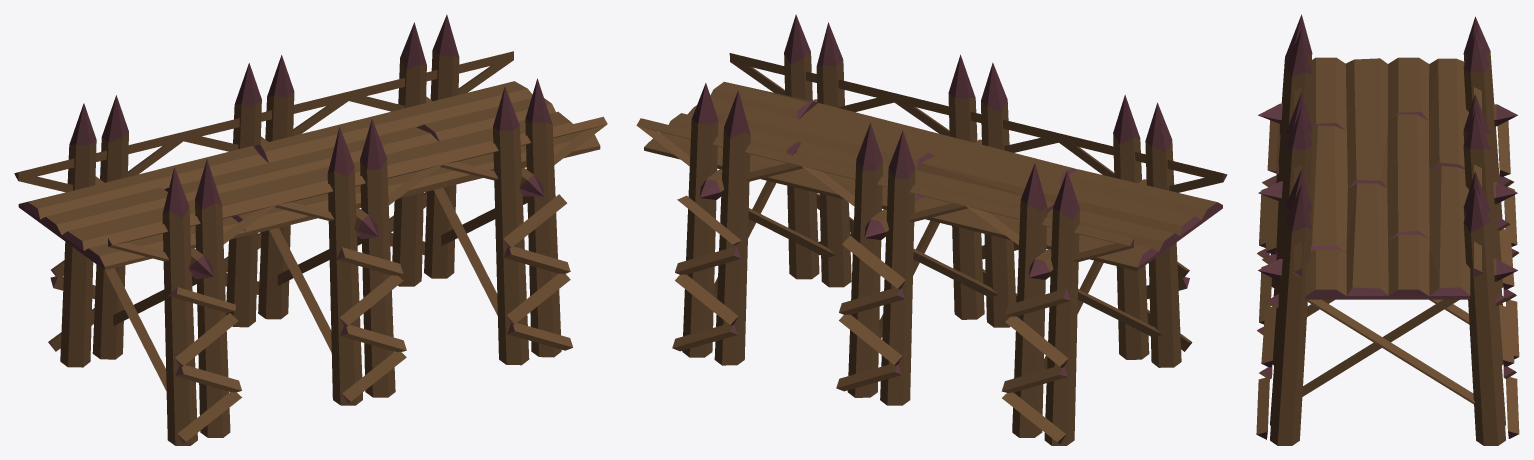
File: SM_Bridge_Tribal_Tier2.fbx
The picture shows the model from 3 angles, left to right: view 1: azimuth 30°, elevation 25°; view 2: azimuth 150°, elevation 25°; view 3: azimuth 270°, elevation 25°; orthographic projection. The views are drawn at different scales.
Parts seen in each view (by area): view 1: SM_Bridge_Tribal_Tier2; view 2: SM_Bridge_Tribal_Tier2; view 3: SM_Bridge_Tribal_Tier2.
Boxes of the visible parts, x1,y1,x2,y2 form: SM_Bridge_Tribal_Tier2: (14, 14, 607, 445); SM_Bridge_Tribal_Tier2: (636, 14, 1227, 445); SM_Bridge_Tribal_Tier2: (1256, 14, 1519, 445).
Size of the model in its own units: 10.03 by 5.16 by 4.79.
